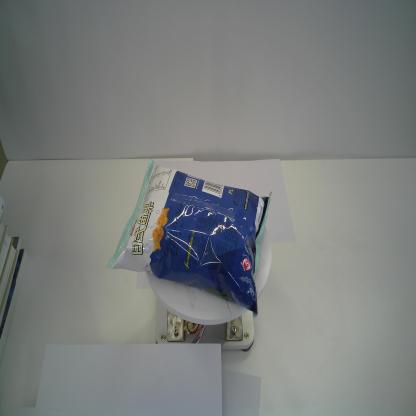Puffed Food: (106, 157, 272, 318)
